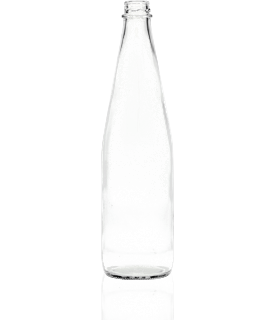glass_bottle: (99, 1, 177, 284)
